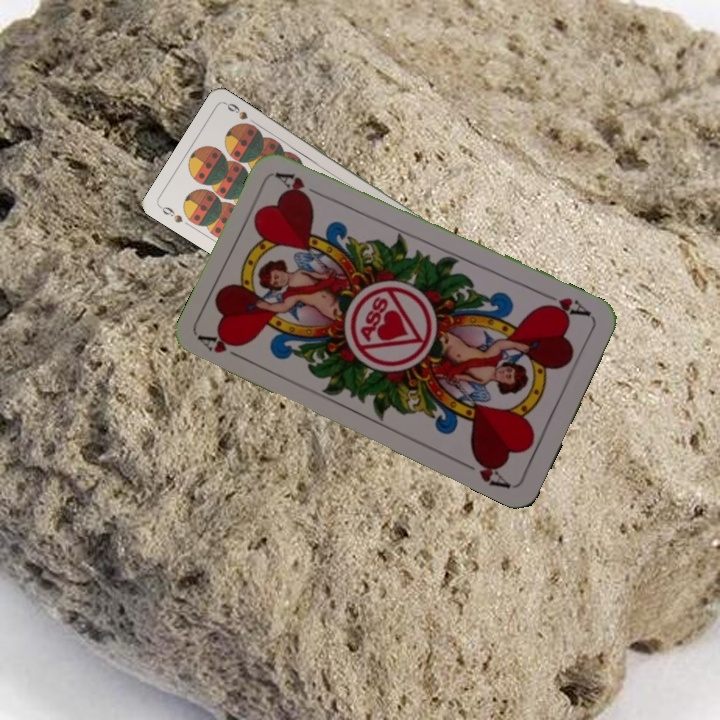HA: (196, 328, 252, 365), (537, 289, 594, 320)
S9: (156, 202, 186, 226)
